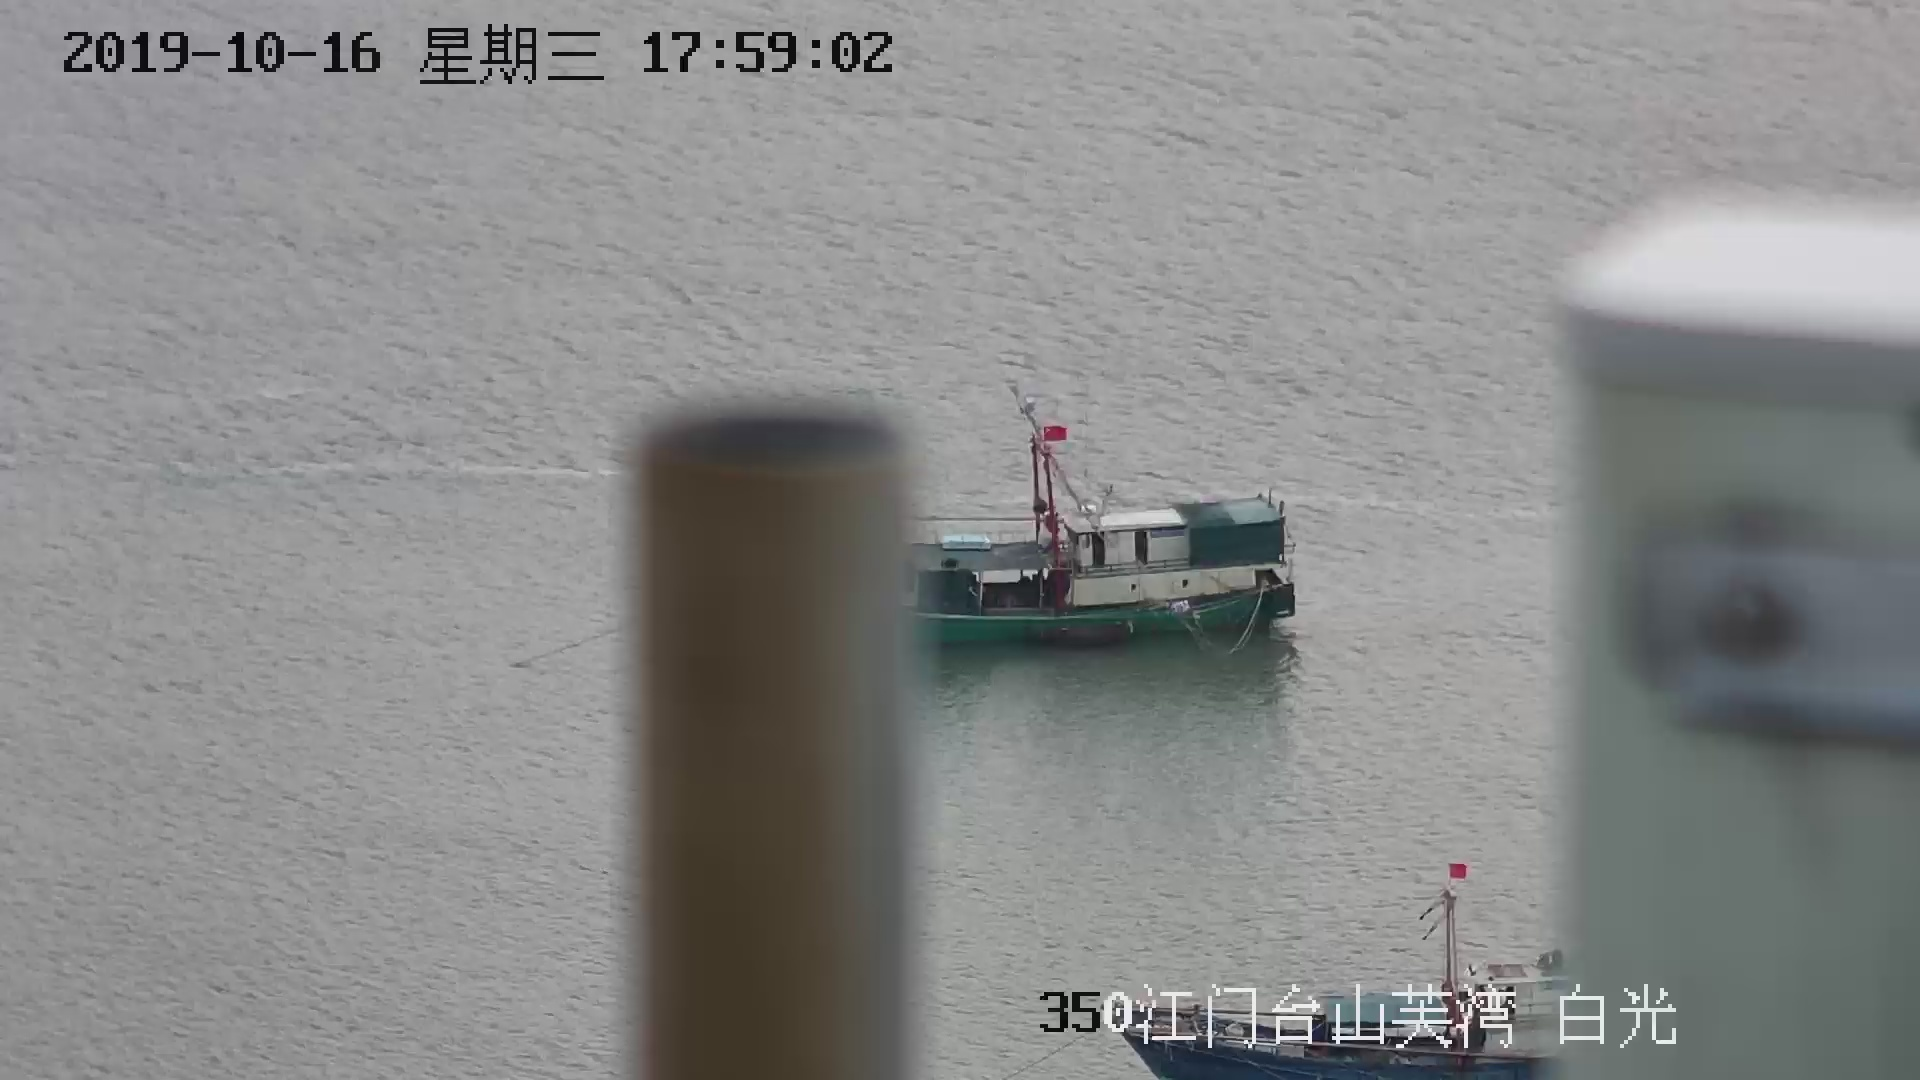ship: (1105, 855, 1581, 1080), (913, 386, 1292, 647)
